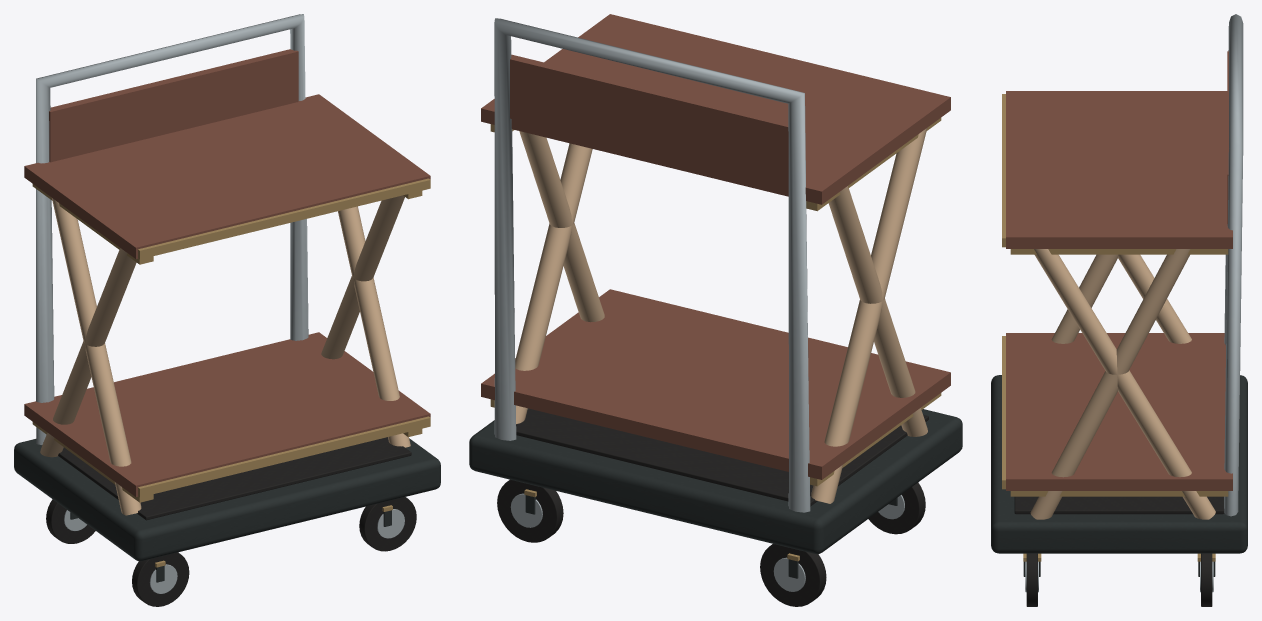
The picture shows the model from 3 angles, left to right: view 1: azimuth 30°, elevation 25°; view 2: azimuth 150°, elevation 25°; view 3: azimuth 270°, elevation 25°; orthographic projection. The views are drawn at different scales.
Parts seen in each view (by area): view 1: cart-upper-deck, cart-lower-deck, Platform cart deck, display-rear-plaque, Folding cart push handle, Load deck traction surface, display-swept-front--0.307, display-swept-front-0.307, display-swept-back--0.307, display-swept-back-0.307, lower-curved-nose, upper-curved-nose (+3 smaller); view 2: cart-lower-deck, cart-upper-deck, Platform cart deck, Folding cart push handle, display-rear-plaque, Load deck traction surface, display-swept-back--0.307, display-swept-front--0.307, display-swept-back-0.307, display-swept-front-0.307, wheel-right-rear, wheel-left-rear (+3 smaller); view 3: cart-upper-deck, cart-lower-deck, Platform cart deck, Folding cart push handle, display-swept-back-0.307, display-swept-front-0.307, Load deck traction surface, display-swept-back--0.307, display-swept-front--0.307, display-bracket-0.307-0.3, display-bracket-0.307-0.82, wheel-right-front (+3 smaller).
Part boxes in pixels (box(x1,y1,x2,y2)): cart-upper-deck: box(24, 94, 430, 258); cart-lower-deck: box(24, 332, 430, 496); Platform cart deck: box(14, 438, 440, 561); display-rear-plaque: box(49, 49, 298, 162); Folding cart push handle: box(36, 14, 308, 444); Load deck traction surface: box(58, 437, 411, 520); display-swept-front--0.307: box(52, 198, 141, 515); display-swept-front-0.307: box(338, 206, 410, 447); display-swept-back--0.307: box(40, 248, 136, 457); display-swept-back-0.307: box(321, 195, 404, 359); lower-curved-nose: box(138, 416, 430, 497); upper-curved-nose: box(138, 178, 430, 259); cart-lower-deck: box(481, 289, 950, 479); cart-upper-deck: box(481, 14, 950, 204); Platform cart deck: box(469, 408, 962, 554); Folding cart push handle: box(494, 18, 810, 512); display-rear-plaque: box(510, 54, 788, 186); Load deck traction surface: box(516, 409, 928, 506); display-swept-back--0.307: box(811, 128, 927, 503); display-swept-front--0.307: box(828, 186, 927, 436); display-swept-back-0.307: box(515, 143, 592, 423); display-swept-front-0.307: box(519, 131, 604, 322); wheel-right-rear: box(497, 479, 563, 542); wheel-left-rear: box(760, 544, 826, 606); cart-upper-deck: box(1006, 91, 1232, 248); cart-lower-deck: box(1006, 333, 1232, 490); Platform cart deck: box(991, 375, 1247, 553); Folding cart push handle: box(1224, 14, 1243, 516); display-swept-back-0.307: box(1034, 249, 1215, 519); display-swept-front-0.307: box(1030, 249, 1190, 519); Load deck traction surface: box(1014, 496, 1224, 514); display-swept-back--0.307: box(1118, 254, 1191, 343); display-swept-front--0.307: box(1051, 254, 1117, 343); display-bracket-0.307-0.3: box(1010, 491, 1228, 496); display-bracket-0.307-0.82: box(1010, 249, 1228, 254); wheel-right-front: box(1026, 553, 1037, 606).
Size of the model in its own units: 0.7 by 1 by 0.5.
6 materials, 3 textured.
